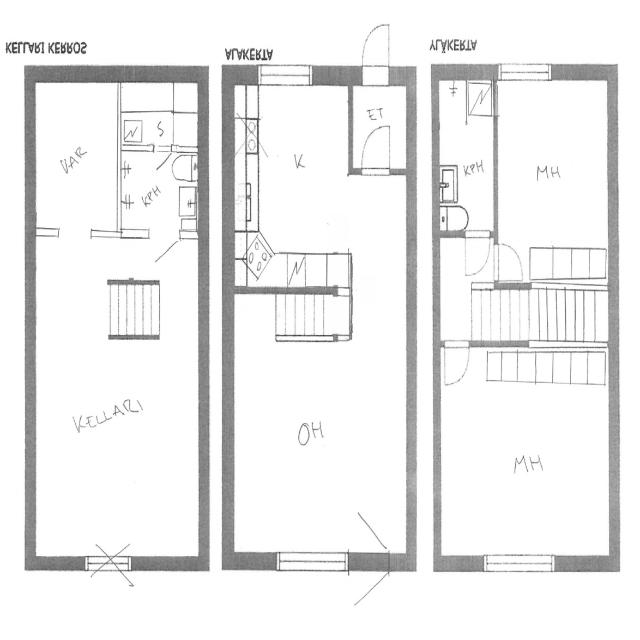door: (349, 551, 389, 632), (349, 490, 389, 571), (148, 230, 180, 285), (362, 24, 388, 85), (362, 126, 389, 174), (444, 340, 469, 385), (465, 230, 490, 275), (493, 245, 522, 280), (152, 145, 170, 177)
